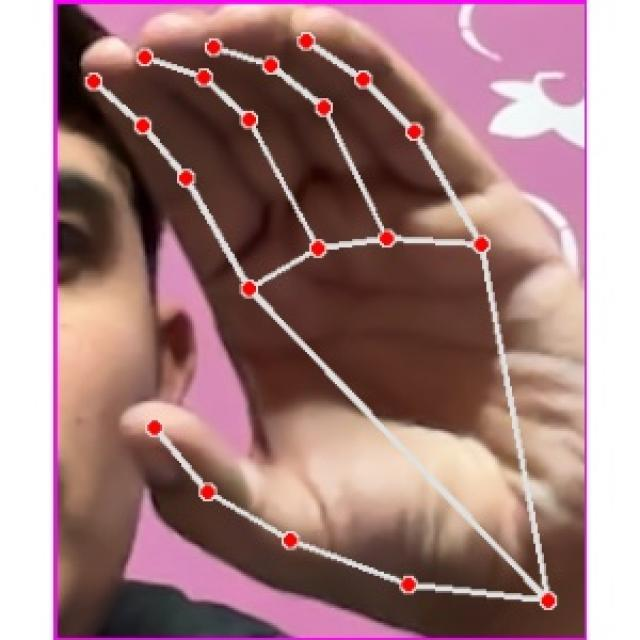C: (69, 11, 585, 623)
